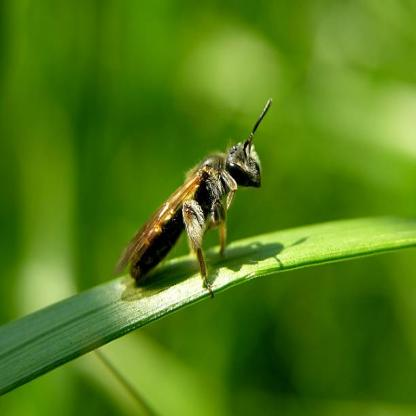sawfly: (110, 101, 274, 298)
